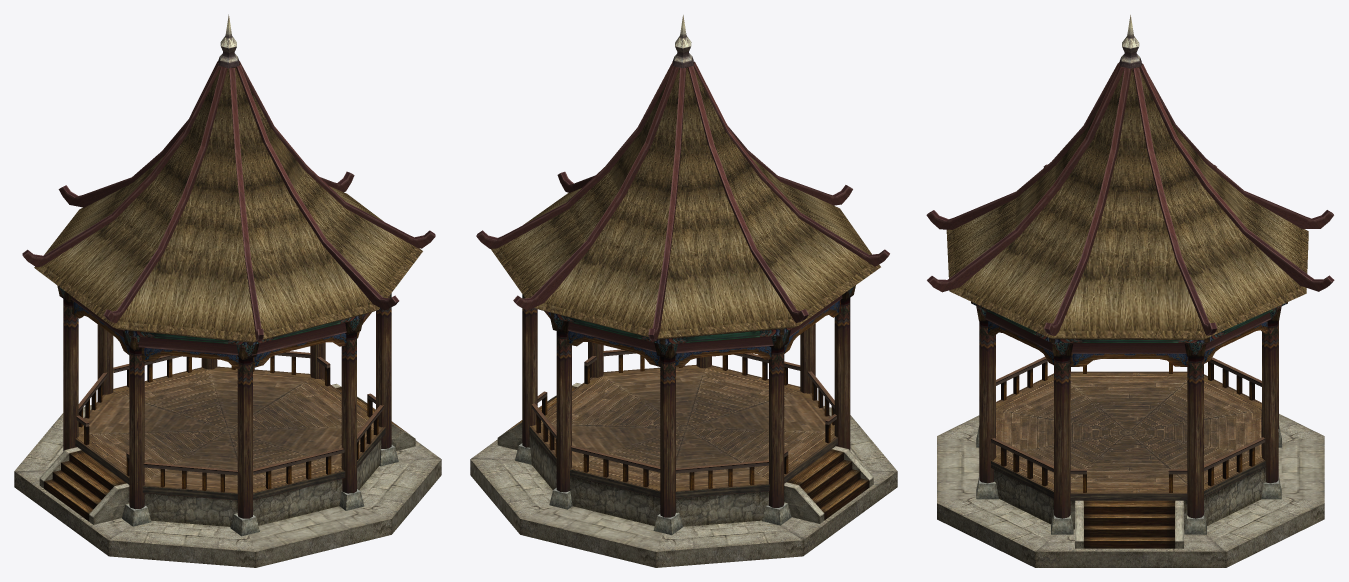
The model's file is fortms_build_house00.fbx.
3 views of the same model, side by side, from view 1: azimuth 30°, elevation 25°; view 2: azimuth 150°, elevation 25°; view 3: azimuth 270°, elevation 25° (orthographic).
Parts seen in each view (by area): view 1: fortMS_build_house00; view 2: fortMS_build_house00; view 3: fortMS_build_house00.
Part boxes in pixels (bbox=[...]): fortMS_build_house00: bbox=[14, 14, 441, 567]; fortMS_build_house00: bbox=[470, 15, 897, 567]; fortMS_build_house00: bbox=[926, 15, 1334, 567].
Size of the model in its own units: 8.17 by 10.94 by 8.58.
